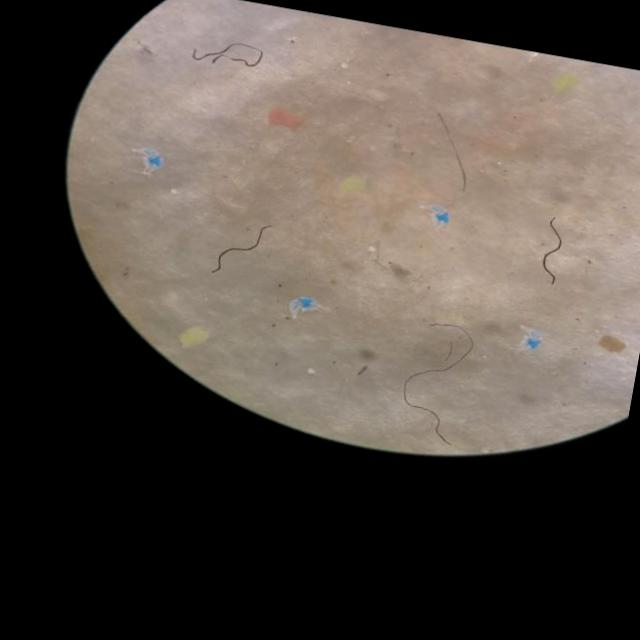fiber: (402, 324, 473, 445), (211, 225, 269, 272), (437, 112, 466, 192), (190, 43, 263, 67), (541, 217, 562, 284)
film: (289, 297, 315, 316), (136, 148, 157, 169), (525, 331, 539, 350), (429, 206, 448, 214)
fragment: (267, 108, 300, 130), (178, 326, 208, 347), (598, 334, 624, 353), (338, 175, 364, 194), (552, 73, 578, 91)
pellet: (368, 245, 374, 252), (307, 368, 313, 374), (170, 188, 177, 193)
